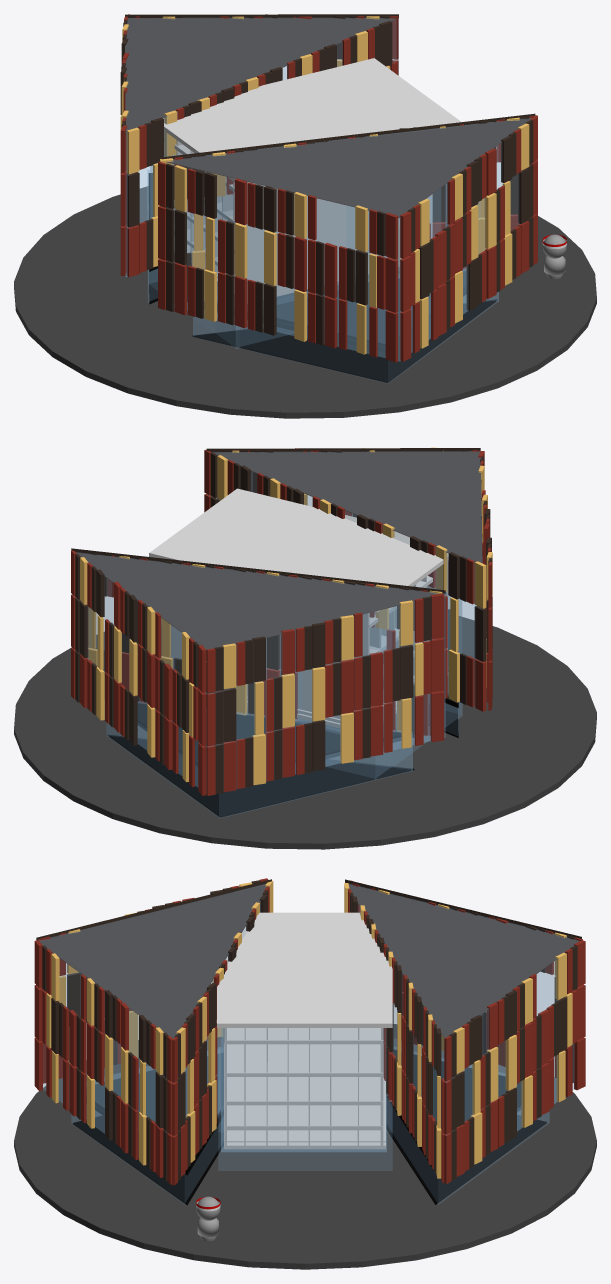
The picture shows the model from 3 angles, top to bottom: view 1: azimuth 30°, elevation 25°; view 2: azimuth 150°, elevation 25°; view 3: azimuth 270°, elevation 25°; orthographic projection.
Visible parts, largest first — view 1: Text, Cylinder, Cylinder.001; view 2: Text, Cylinder; view 3: Text, Cylinder, Cylinder.001.
Part boxes in pixels (x1,y1,x2,y2): Text: (120,14,537,383); Cylinder: (14,184,596,418); Cylinder.001: (542,234,566,279); Text: (71,447,492,818); Cylinder: (14,616,596,849); Text: (34,878,585,1205); Cylinder: (14,1024,596,1269); Cylinder.001: (196,1196,220,1241).
Bounding box in the file's own units: 25.06 × 8.97 × 25.06.
